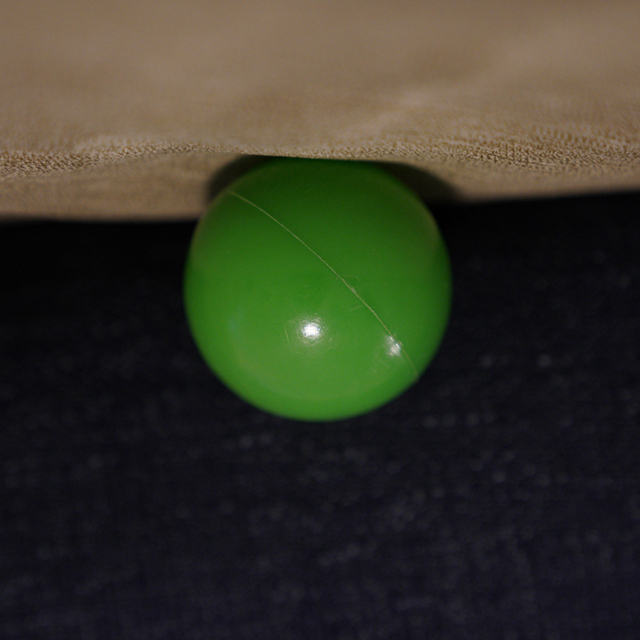Ball: (181, 158, 453, 417)
